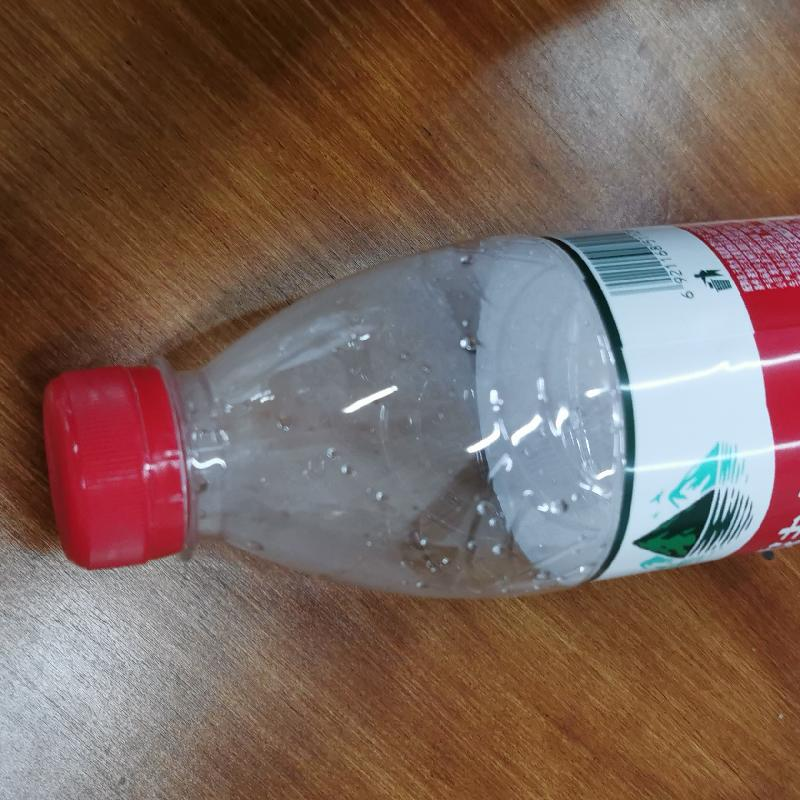bottles: (46, 222, 800, 590)
